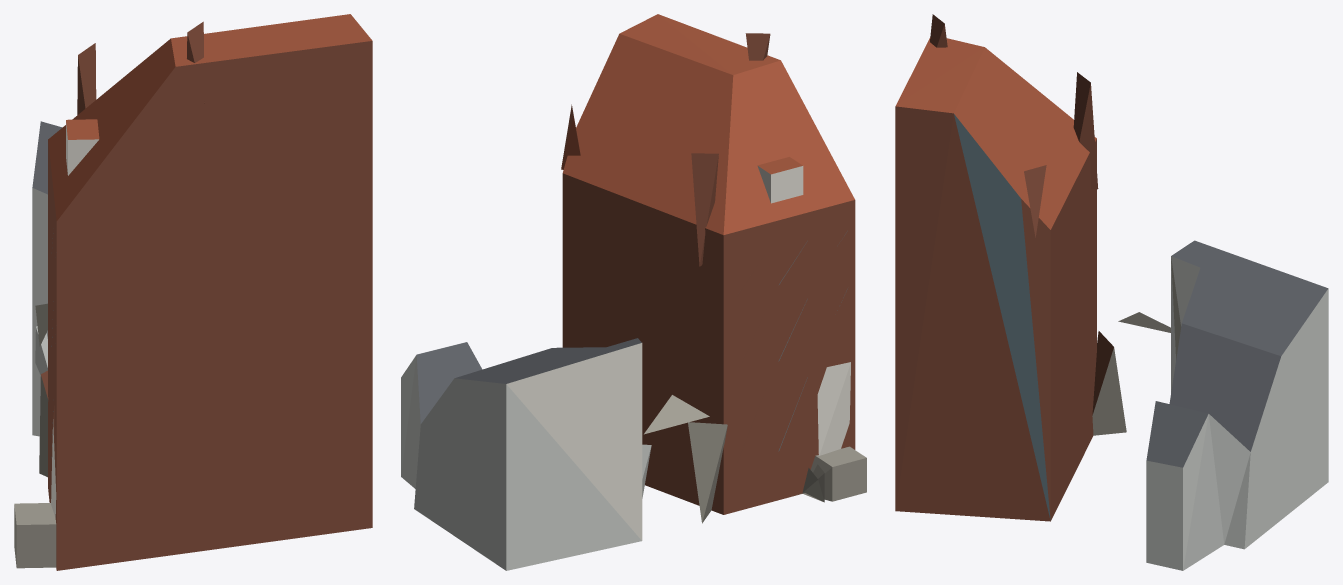
File: oudemanhuispoort.lod2.glb
3 renders of one model, left to right at view 1: azimuth 30°, elevation 25°; view 2: azimuth 150°, elevation 25°; view 3: azimuth 270°, elevation 25°, orthographic. The views are drawn at different scales.
Visible parts, largest first — view 1: lod2; view 2: lod2; view 3: lod2.
Boxes of the visible parts, x1,y1,x2,y2 form: lod2: (14, 14, 372, 570); lod2: (401, 14, 866, 570); lod2: (895, 14, 1328, 570).
Size of the model in its own units: 16.55 by 18 by 16.39.
